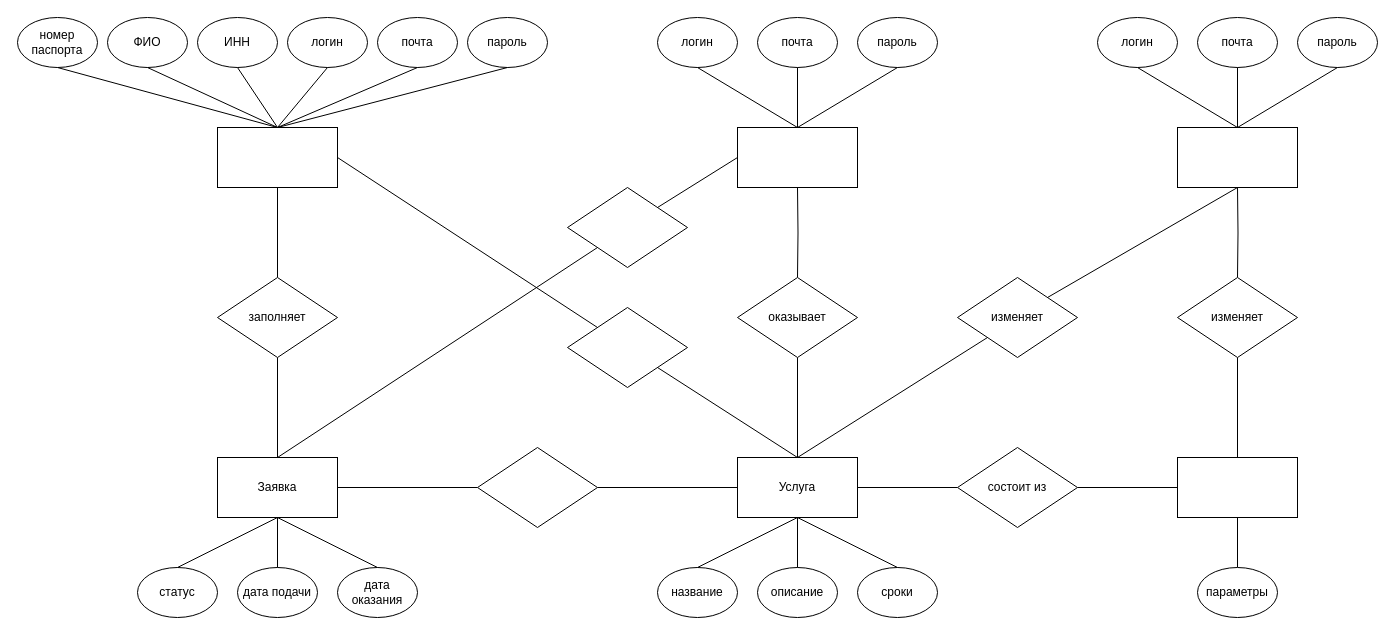
This 1395x635 diagram has some shape labels left out. The centre of each missing label's shape, as x and y in pixels:
"Администратор" goes at [1237,157].
"Госслужащий" goes at [797,157].
"изменяет статус" goes at [627,227].
"оказывается" goes at [627,347].
"Пользователь" goes at [277,157].
"Правило" goes at [1237,487].
"создаётся для" goes at [537,487].
